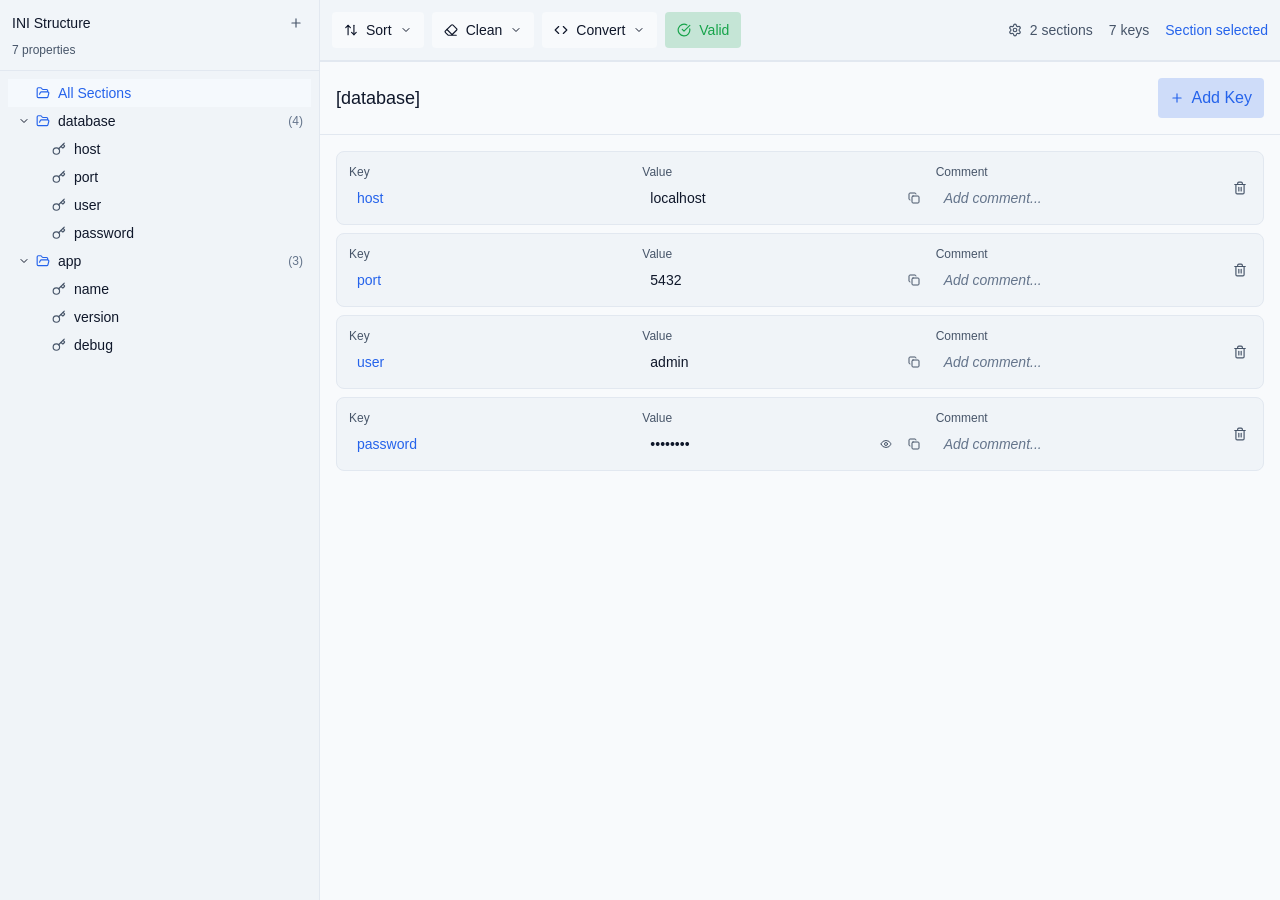
Test: IniSmartView › should open sorting menu
Click the button "Sort" at (378, 30), box [332,12,424,48]
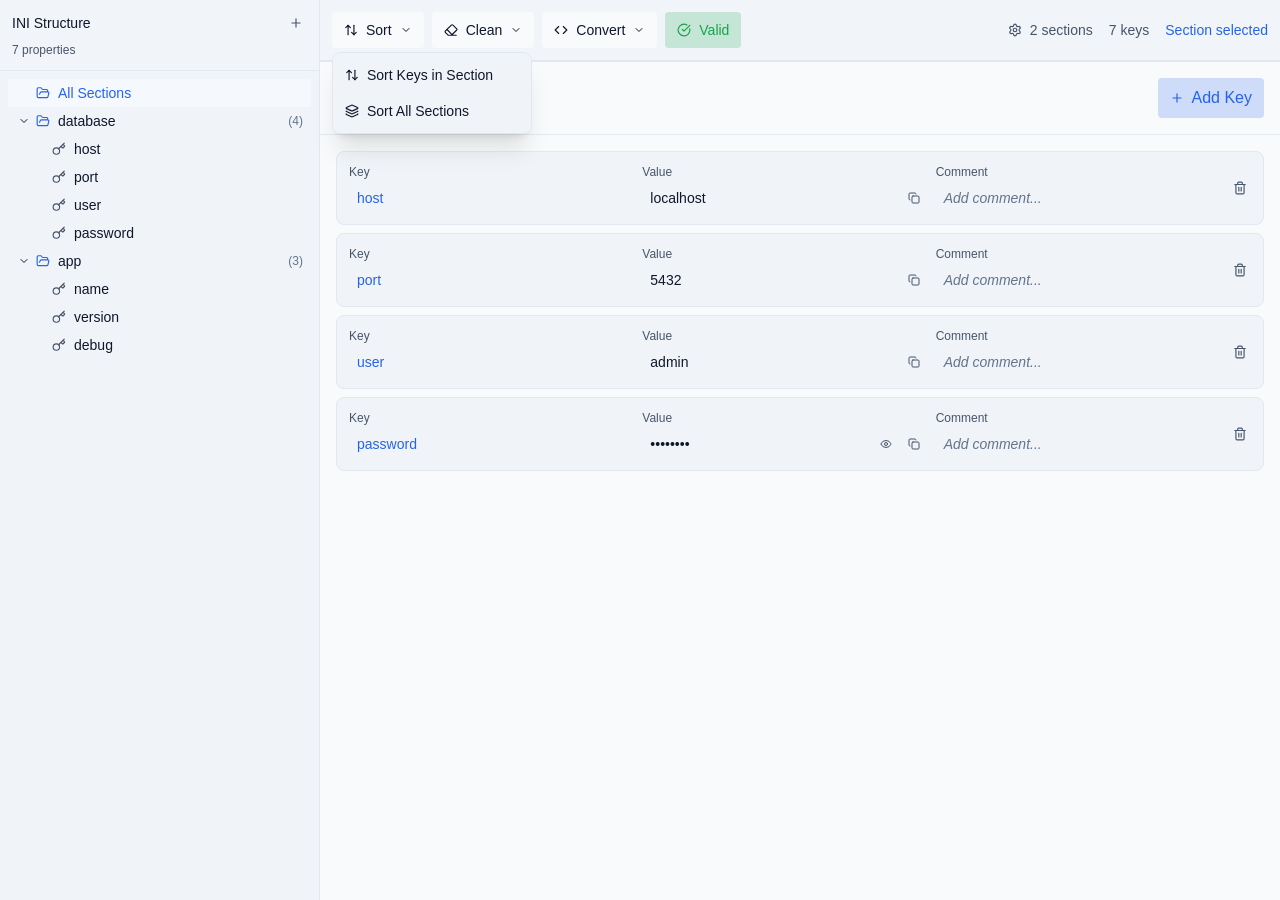
Result: the text "Sort All Sections" is shown at [367,101,469,121]
